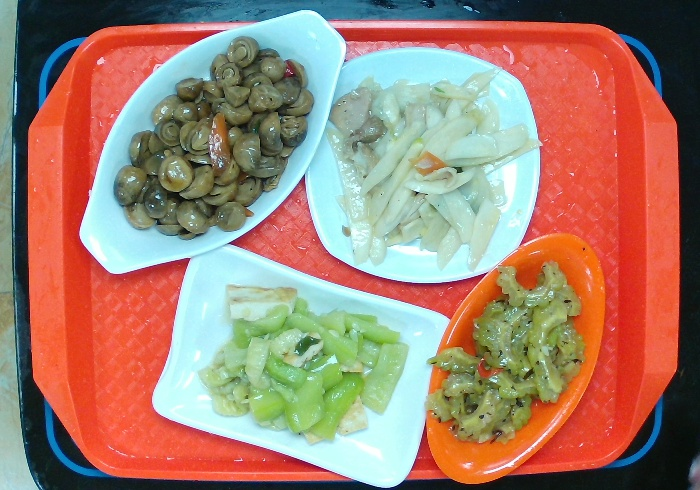RJxy-Ju_Huang_Tuo_Yuan: (424, 231, 607, 484)
RJxy-Si_Fang_Ao_Bian_Wan: (150, 242, 452, 489)
RJxy-Si_Fang_Die: (303, 45, 542, 285)
RJxy-Yu_Pan: (77, 8, 348, 276)
